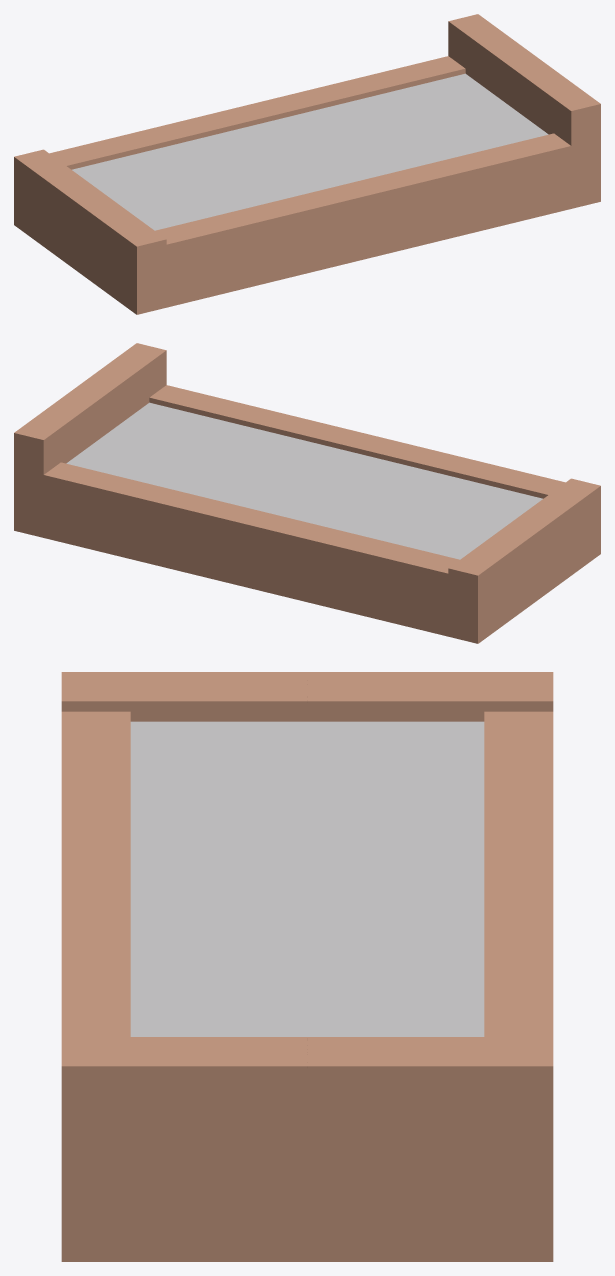
File: bed.fbx
The picture shows the model from 3 angles, top to bottom: view 1: azimuth 30°, elevation 25°; view 2: azimuth 150°, elevation 25°; view 3: azimuth 270°, elevation 25°; orthographic projection. The views are drawn at different scales.
Parts seen in each view (by area): view 1: Cube; view 2: Cube; view 3: Cube.
Part boxes in pixels (x1=…): Cube: x1=14, y1=14, x2=600, y2=314; Cube: x1=14, y1=343, x2=600, y2=643; Cube: x1=61, y1=672, x2=553, y2=1261.
Bounding box in the file's own units: 4.8 × 0.9672 × 2.2.
